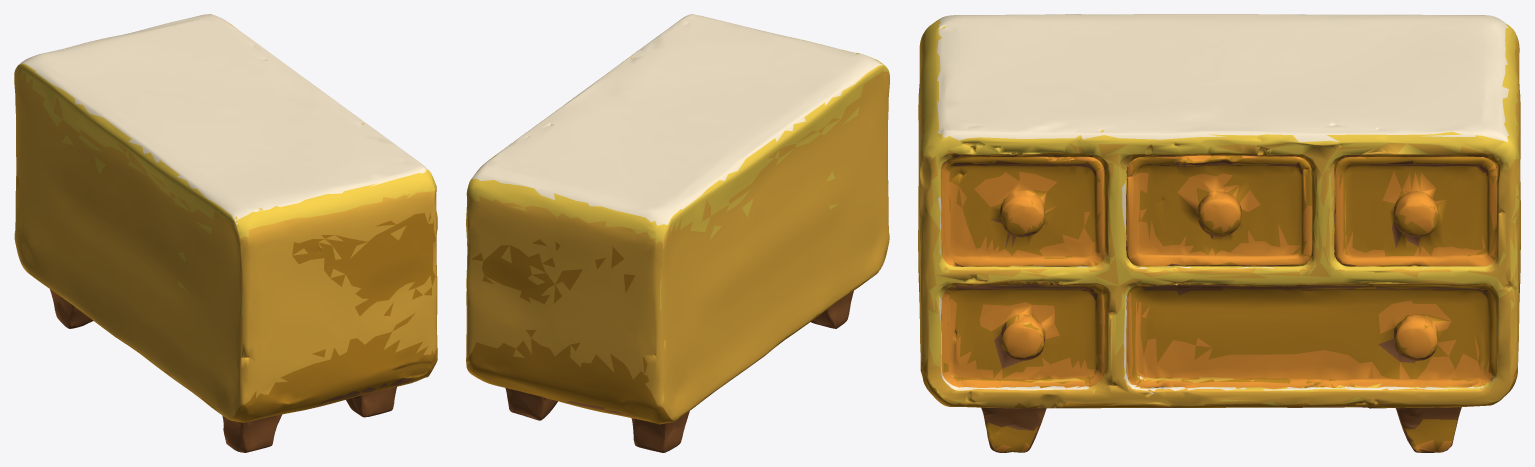
File: SM_dresser_cream.fbx
3 renders of one model, left to right at view 1: azimuth 30°, elevation 25°; view 2: azimuth 150°, elevation 25°; view 3: azimuth 270°, elevation 25°, orthographic. The views are drawn at different scales.
Visible parts, largest first — view 1: SM_dresser_cream; view 2: SM_dresser_cream; view 3: SM_dresser_cream.
Boxes of the visible parts, x1,y1,x2,y2 form: SM_dresser_cream: (14,14,437,452); SM_dresser_cream: (466,14,889,452); SM_dresser_cream: (918,14,1520,452).
Bounding box in the file's own units: 85.04 × 100 × 165.
Materials: 1 (1 with a texture image).
